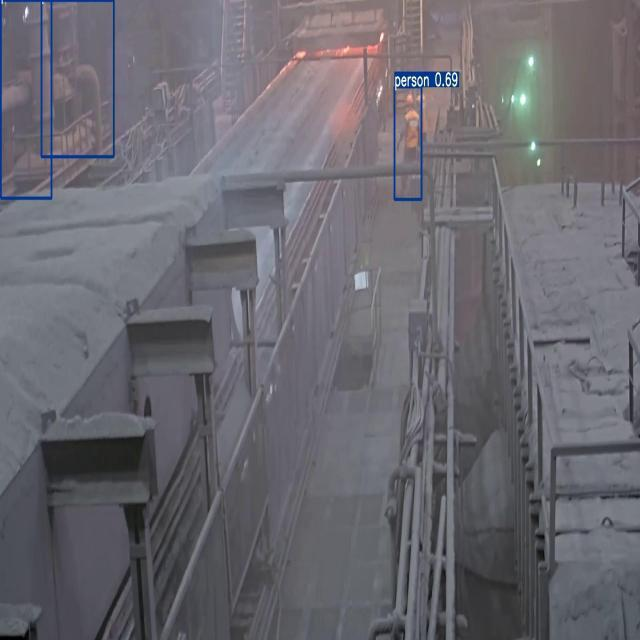safety_helmet: (407, 112, 422, 144)
